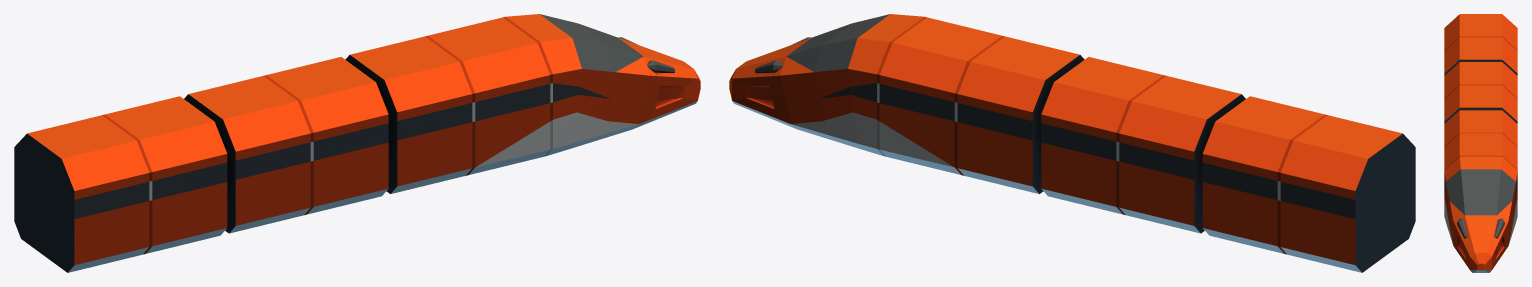
The model's file is Bullet train.glb.
3 views of the same model, side by side, from view 1: azimuth 30°, elevation 25°; view 2: azimuth 150°, elevation 25°; view 3: azimuth 270°, elevation 25° (orthographic). The views are drawn at different scales.
Visible parts, largest first — view 1: PUSHILIN_Bullet_Train_Circle.002; view 2: PUSHILIN_Bullet_Train_Circle.002; view 3: PUSHILIN_Bullet_Train_Circle.002.
Boxes of the visible parts, left/top/right/bottom form: PUSHILIN_Bullet_Train_Circle.002: left=14, top=14, right=700, bottom=272; PUSHILIN_Bullet_Train_Circle.002: left=729, top=14, right=1415, bottom=272; PUSHILIN_Bullet_Train_Circle.002: left=1444, top=14, right=1517, bottom=272.
Bounding box in the file's own units: 4.97 × 0.7985 × 0.7922.
Materials: 1 (1 with a texture image).
